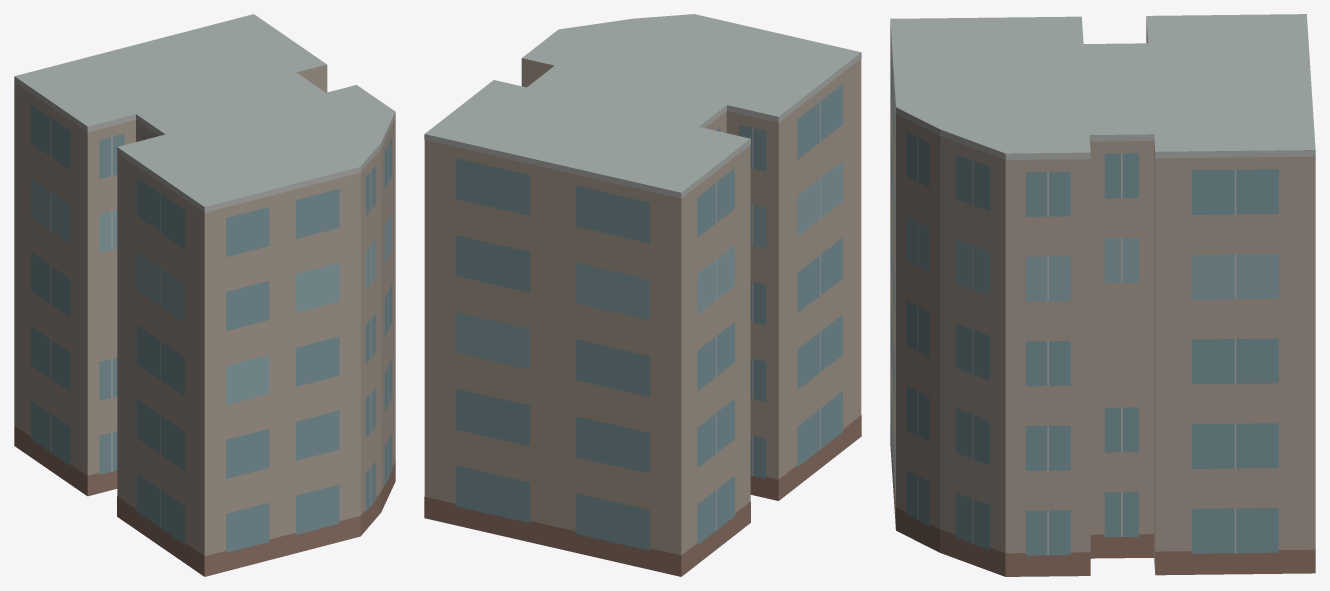
The model's file is survey-upis-32897685.glb.
3 renders of one model, left to right at view 1: azimuth 30°, elevation 25°; view 2: azimuth 150°, elevation 25°; view 3: azimuth 270°, elevation 25°, orthographic. The views are drawn at different scales.
Visible parts, largest first — view 1: survey-upis-32897685.tmp; view 2: survey-upis-32897685.tmp; view 3: survey-upis-32897685.tmp.
Boxes of the visible parts, x1,y1,x2,y2 form: survey-upis-32897685.tmp: (14,14,395,576); survey-upis-32897685.tmp: (424,14,861,576); survey-upis-32897685.tmp: (890,14,1315,576).
Bounding box in the file's own units: 11.18 × 15.8 × 14.4.
